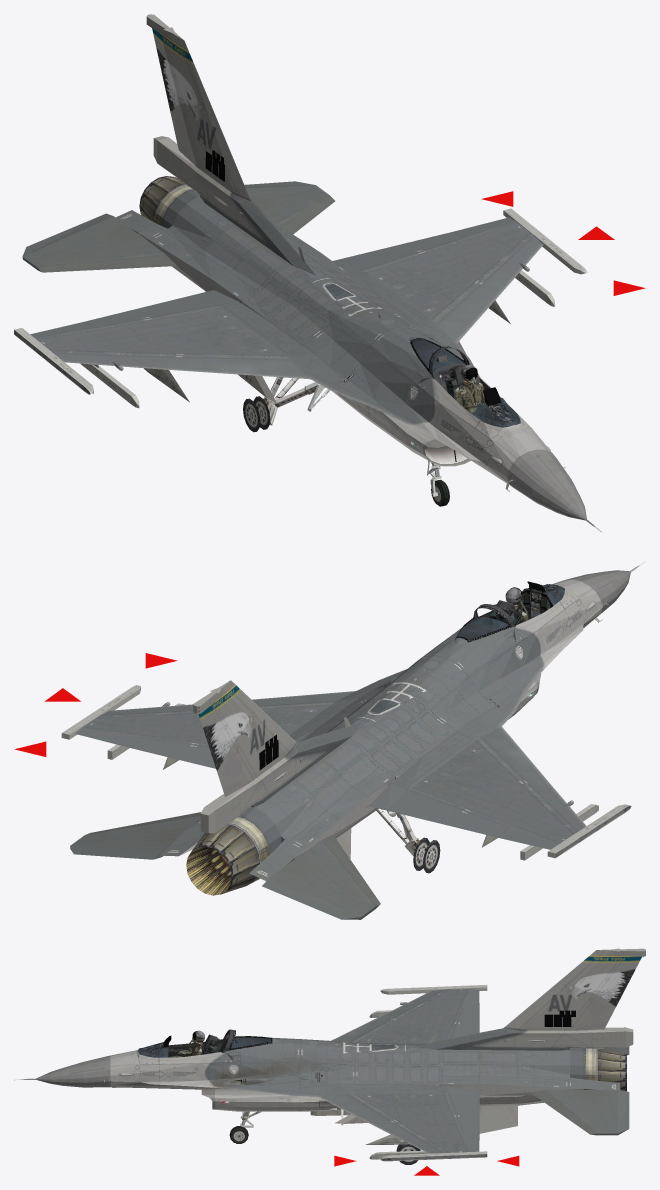
3 views of the same model, one above another, from view 1: azimuth 30°, elevation 25°; view 2: azimuth 150°, elevation 25°; view 3: azimuth 270°, elevation 25° (orthographic). The views are drawn at different scales.
Parts seen in each view (by area): view 1: vehicle#_1_222_48, vehicle#_1_66_18, vehicle#_1_42_11, vehicle#_6_15_34, vehicle#_6_11_31, vehicle#_1_12_5, vehicle#_1_54_16, vehicle#_6_46_56, vehicle#_6_12_24, vehicle#_6_10_30, vehicle#_1_30_9, vehicle#_6_49_59 (+11 smaller); view 2: vehicle#_1_222_48, vehicle#_1_66_18, vehicle#_6_11_31, vehicle#_1_42_11, vehicle#_6_15_34, vehicle#_6_10_30, vehicle#_6_12_24, vehicle#_1_54_16, vehicle#_1_6_8, vehicle#_27_28, vehicle#_6_14_35, vehicle#_6_17_29 (+16 smaller); view 3: vehicle#_1_222_48, vehicle#_1_66_18, vehicle#_6_15_34, vehicle#_6_10_30, vehicle#_1_42_11, vehicle#_6_12_24, vehicle#_1_12_5, vehicle#_6_14_35, vehicle#_6_46_56, vehicle#_1_30_9, vehicle#_6_13_25, vehicle#_27_28 (+10 smaller).
Part boxes in pixels (bbox=[...]): vehicle#_1_222_48: bbox=[138, 196, 601, 532]; vehicle#_1_66_18: bbox=[14, 306, 287, 394]; vehicle#_1_42_11: bbox=[366, 208, 587, 285]; vehicle#_6_15_34: bbox=[146, 14, 238, 195]; vehicle#_6_11_31: bbox=[22, 216, 163, 272]; vehicle#_1_12_5: bbox=[364, 263, 484, 343]; vehicle#_1_54_16: bbox=[53, 352, 310, 379]; vehicle#_6_46_56: bbox=[505, 449, 586, 520]; vehicle#_6_12_24: bbox=[175, 148, 315, 275]; vehicle#_6_10_30: bbox=[244, 181, 335, 234]; vehicle#_1_30_9: bbox=[435, 235, 543, 321]; vehicle#_6_49_59: bbox=[412, 338, 520, 427]; vehicle#_1_222_48: bbox=[185, 561, 645, 858]; vehicle#_1_66_18: bbox=[409, 738, 631, 858]; vehicle#_6_11_31: bbox=[270, 841, 380, 919]; vehicle#_1_42_11: bbox=[61, 685, 208, 747]; vehicle#_6_15_34: bbox=[193, 680, 292, 782]; vehicle#_6_10_30: bbox=[70, 812, 200, 859]; vehicle#_6_12_24: bbox=[221, 722, 361, 822]; vehicle#_1_54_16: bbox=[480, 726, 586, 832]; vehicle#_1_6_8: bbox=[369, 782, 509, 837]; vehicle#_27_28: bbox=[192, 823, 261, 894]; vehicle#_6_14_35: bbox=[198, 706, 250, 796]; vehicle#_6_17_29: bbox=[186, 846, 231, 895]; vehicle#_1_222_48: bbox=[14, 1030, 583, 1112]; vehicle#_1_66_18: bbox=[352, 985, 487, 1043]; vehicle#_6_15_34: bbox=[522, 948, 645, 1030]; vehicle#_6_10_30: bbox=[530, 1090, 629, 1135]; vehicle#_1_42_11: bbox=[380, 1094, 487, 1161]; vehicle#_6_12_24: bbox=[412, 1028, 607, 1050]; vehicle#_1_12_5: bbox=[319, 1093, 448, 1120]; vehicle#_6_14_35: bbox=[574, 956, 641, 1030]; vehicle#_6_46_56: bbox=[36, 1055, 115, 1087]; vehicle#_1_30_9: bbox=[349, 1094, 444, 1153]; vehicle#_6_13_25: bbox=[570, 1027, 633, 1047]; vehicle#_27_28: bbox=[596, 1049, 626, 1091].
Size of the model in its own units: 10.43 by 5.03 by 14.91.
Materials: 14 (11 with a texture image).
